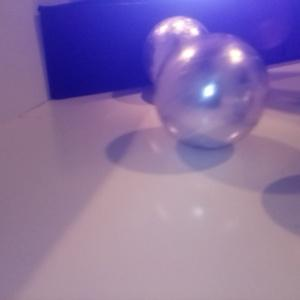alive_ball: (153, 32, 270, 149), (143, 16, 212, 88)
